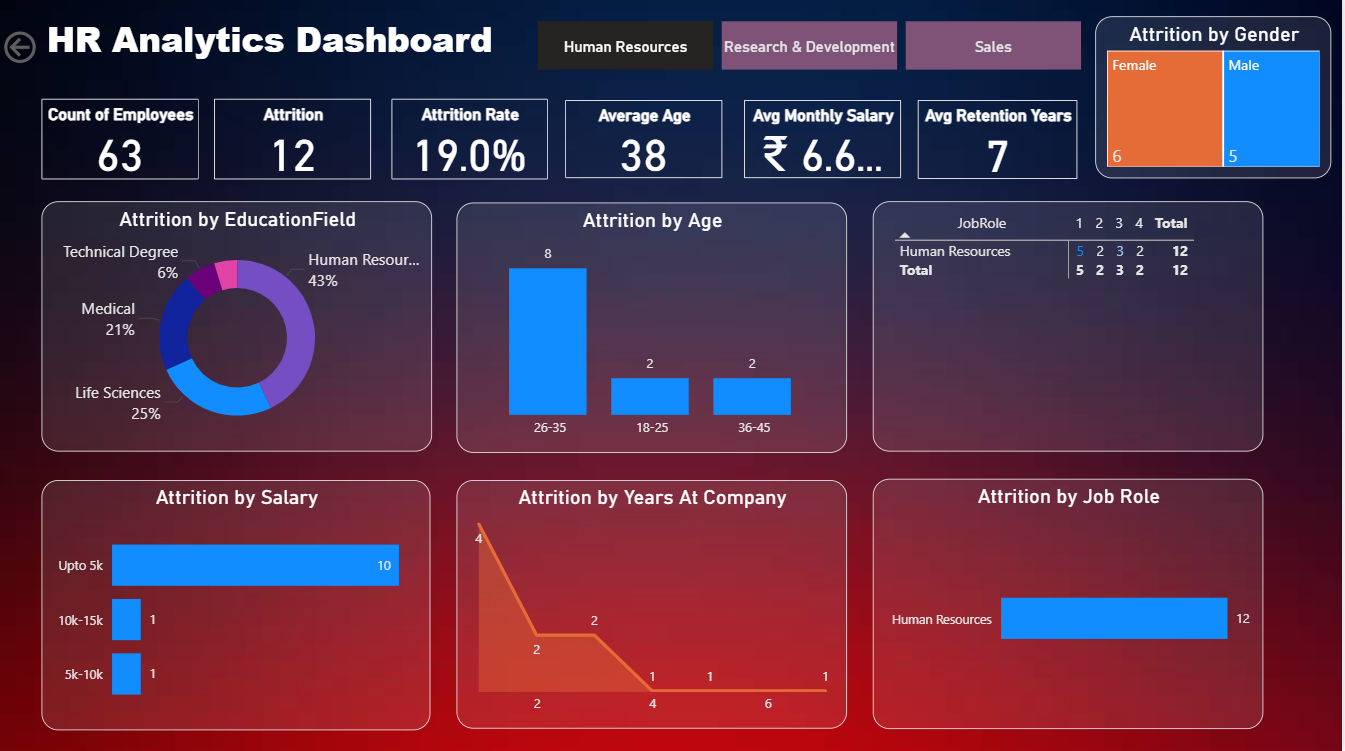

The page's visual inventory and layout, read from the dashboard file:
{"tool":"powerbi","page":{"name":"Page 1","canvas":[1280,720],"ordinal":0},"visuals":[{"type":"card","title":"Count of Employees","fields":{"Values":["CountNonNull(HR_Analytics.EmpID)"]},"box":[40.7,98.3,149.8,76.7],"z":0},{"type":"actionButton","box":[0,30,100,40],"z":1000},{"type":"card","title":"Attrition","fields":{"Values":["HR_Analytics.Count of AttritionValue for 1"]},"box":[204.9,98.3,149.8,76.7],"z":2000},{"type":"card","title":"Attrition Rate","fields":{"Values":["HR_Analytics.AttritionRate"]},"box":[373.9,98.3,148.6,76.7],"z":3000},{"type":"card","title":"Average Age","fields":{"Values":["Avg(HR_Analytics.Age)"]},"box":[539.3,99.5,149.8,74.3],"z":4000},{"type":"card","title":"Avg Retention Years","fields":{"Values":["Avg(HR_Analytics.YearsAtCompany)"]},"box":[874.9,99.5,152.2,75.5],"z":5000},{"type":"card","title":"Avg Monthly Salary","fields":{"Values":["Avg(HR_Analytics.MonthlyIncome)"]},"box":[709.5,99.5,149.8,74.3],"z":6000},{"type":"donutChart","title":"Attrition by EducationField","fields":{"Y":["CountNonNull(HR_Analytics.Attrition)"],"Category":["HR_Analytics.EducationField"]},"box":[40.4,195.9,372.2,238.1],"z":7000},{"type":"pivotTable","fields":{"Rows":["HR_Analytics.JobRole"],"Columns":["HR_Analytics.JobSatisfaction"],"Values":["HR_Analytics.Count of AttritionValue for 1"]},"box":[832.5,196.2,372.2,238.1],"z":8000},{"type":"barChart","title":"Attrition by Salary","fields":{"Category":["HR_Analytics.SalarySlab"],"Y":["HR_Analytics.Count of AttritionValue for 1"]},"box":[40.4,461.4,370.8,238.1],"z":9000},{"type":"barChart","title":"Attrition by Job Role","fields":{"Category":["HR_Analytics.JobRole"],"Y":["HR_Analytics.Count of AttritionValue for 1"]},"box":[832.5,460.2,372.2,238.1],"z":10000},{"type":"columnChart","title":"Attrition by Age","fields":{"Category":["HR_Analytics.AgeGroup"],"Y":["HR_Analytics.Count of AttritionValue for 1"]},"box":[435.7,197.7,372.2,238.1],"z":11000},{"type":"areaChart","title":"Attrition by Years At Company","fields":{"Category":["HR_Analytics.YearsAtCompany"],"Y":["HR_Analytics.Count of AttritionValue Count"]},"box":[435.7,461.7,372.2,236.6],"z":12000},{"type":"treemap","title":"Attrition by Gender","fields":{"Group":["HR_Analytics.Gender"],"Values":["HR_Analytics.Count of AttritionValue Count"]},"box":[1044.6,20.2,225.1,154.4],"z":13000},{"type":"advancedSlicerVisual","fields":{"Values":["HR_Analytics.Department"]},"box":[508.2,20.4,527.3,56.3],"z":14000},{"type":"textbox","box":[40.4,14.4,506.4,83.7],"z":15000}]}

Visuals, with their boxes in screenshot pixels (x1, y1, x2, y2), scaled from the page's 1280x720 canvas onto the 1345x751 screenshot:
"Count of Employees" card: x1=43, y1=103, x2=200, y2=183
actionButton: x1=0, y1=31, x2=105, y2=73
"Attrition" card: x1=215, y1=103, x2=373, y2=183
"Attrition Rate" card: x1=393, y1=103, x2=549, y2=183
"Average Age" card: x1=567, y1=104, x2=724, y2=181
"Avg Retention Years" card: x1=919, y1=104, x2=1079, y2=183
"Avg Monthly Salary" card: x1=746, y1=104, x2=903, y2=181
"Attrition by EducationField" donutChart: x1=42, y1=204, x2=434, y2=453
pivotTable - HR_Analytics.JobRole x HR_Analytics.JobSatisfaction: x1=875, y1=205, x2=1266, y2=453
"Attrition by Salary" barChart: x1=42, y1=481, x2=432, y2=730
"Attrition by Job Role" barChart: x1=875, y1=480, x2=1266, y2=728
"Attrition by Age" columnChart: x1=458, y1=206, x2=849, y2=455
"Attrition by Years At Company" areaChart: x1=458, y1=482, x2=849, y2=728
"Attrition by Gender" treemap: x1=1098, y1=21, x2=1334, y2=182
advancedSlicerVisual - HR_Analytics.Department: x1=534, y1=21, x2=1088, y2=80
textbox: x1=42, y1=15, x2=575, y2=102
